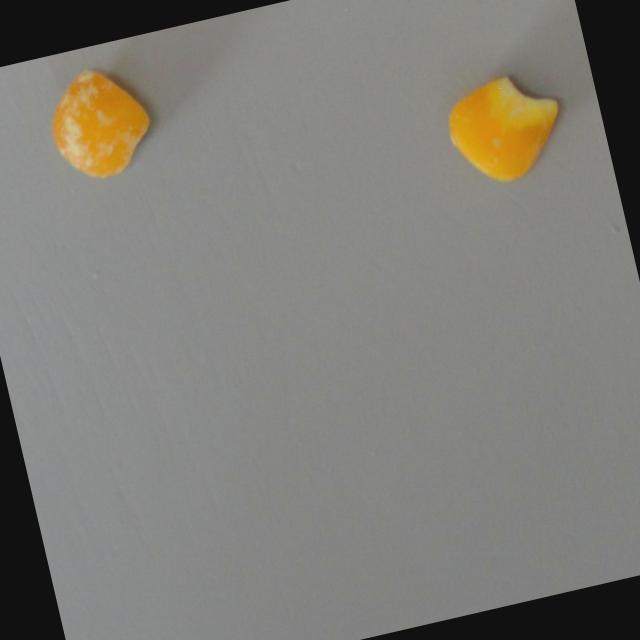no_canjicado: (436, 62, 572, 191)
pelicula: (35, 54, 162, 188)
